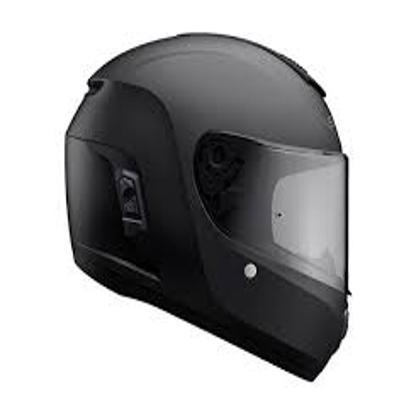not trash: (72, 37, 352, 379)
